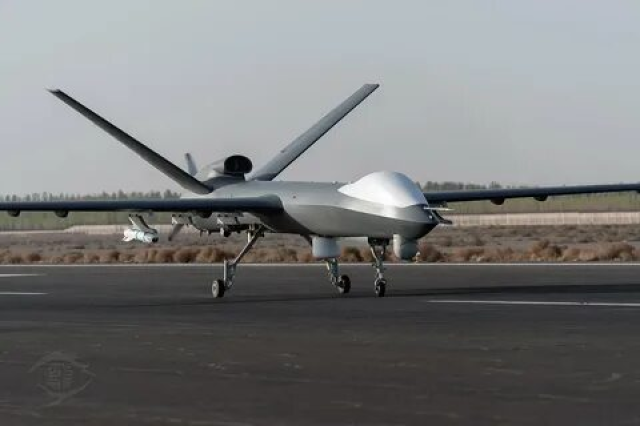military drone: (0, 83, 640, 299)
